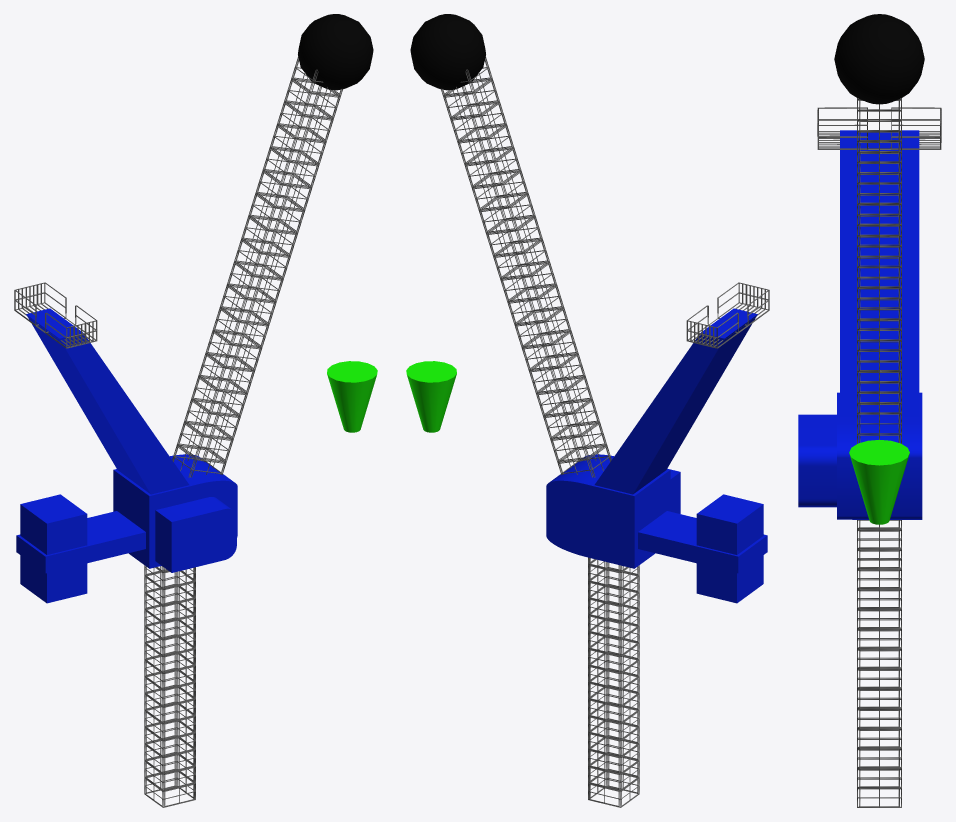
The model's file is Crane_Spinning_2.fbx.
3 views of the same model, side by side, from view 1: azimuth 30°, elevation 25°; view 2: azimuth 150°, elevation 25°; view 3: azimuth 270°, elevation 25° (orthographic). The views are drawn at different scales.
Visible parts, largest first — view 1: Crane_Base, Crane_Tower_Front_Mesh, Crane_Tower, Tower_Hinge, Crane_Hook, Crane_Small_Boardwalk; view 2: Crane_Base, Crane_Tower_Front_Mesh, Crane_Tower, Tower_Hinge, Crane_Hook, Crane_Small_Boardwalk; view 3: Crane_Base, Crane_Tower_Front_Mesh, Tower_Hinge, Crane_Tower, Crane_Hook, Crane_Small_Boardwalk.
Boxes of the visible parts, x1,y1,x2,y2 form: Crane_Base: [16, 308, 237, 603]; Crane_Tower_Front_Mesh: [172, 56, 342, 477]; Crane_Tower: [144, 565, 195, 807]; Tower_Hinge: [298, 14, 373, 90]; Crane_Hook: [327, 361, 377, 432]; Crane_Small_Boardwalk: [14, 282, 97, 348]; Crane_Base: [546, 308, 767, 603]; Crane_Tower_Front_Mesh: [441, 56, 611, 477]; Crane_Tower: [588, 557, 639, 807]; Tower_Hinge: [410, 14, 485, 90]; Crane_Hook: [406, 361, 456, 432]; Crane_Small_Boardwalk: [686, 282, 769, 348]; Crane_Base: [798, 130, 922, 519]; Crane_Tower_Front_Mesh: [857, 98, 901, 443]; Tower_Hinge: [834, 14, 924, 104]; Crane_Tower: [857, 520, 901, 807]; Crane_Hook: [849, 439, 909, 524]; Crane_Small_Boardwalk: [817, 107, 941, 149].
Bounding box in the file's own units: 3285 × 6752 × 1001.
